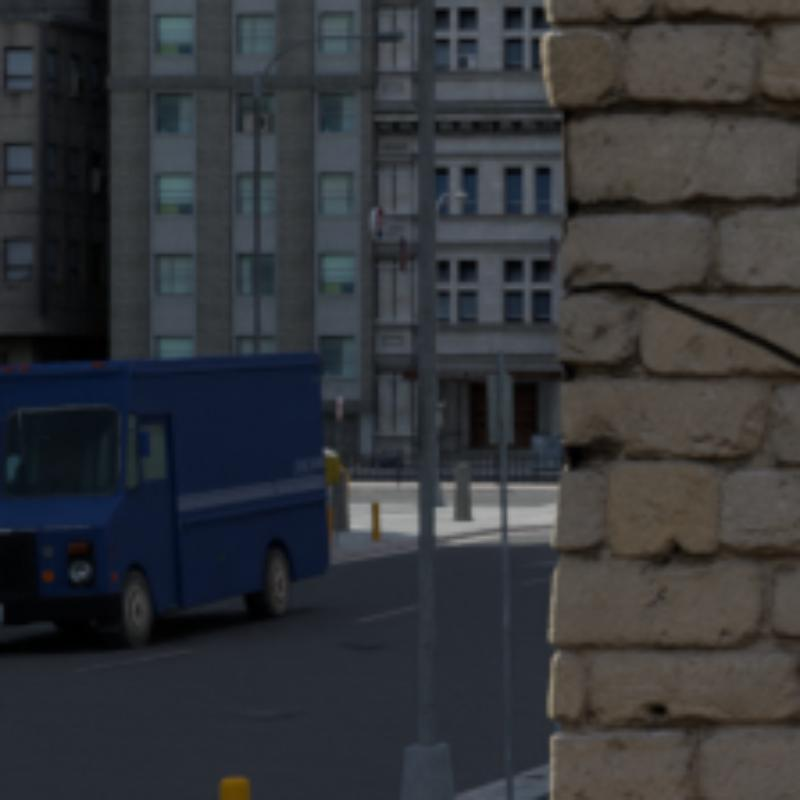pothole: (571, 282, 796, 364)
